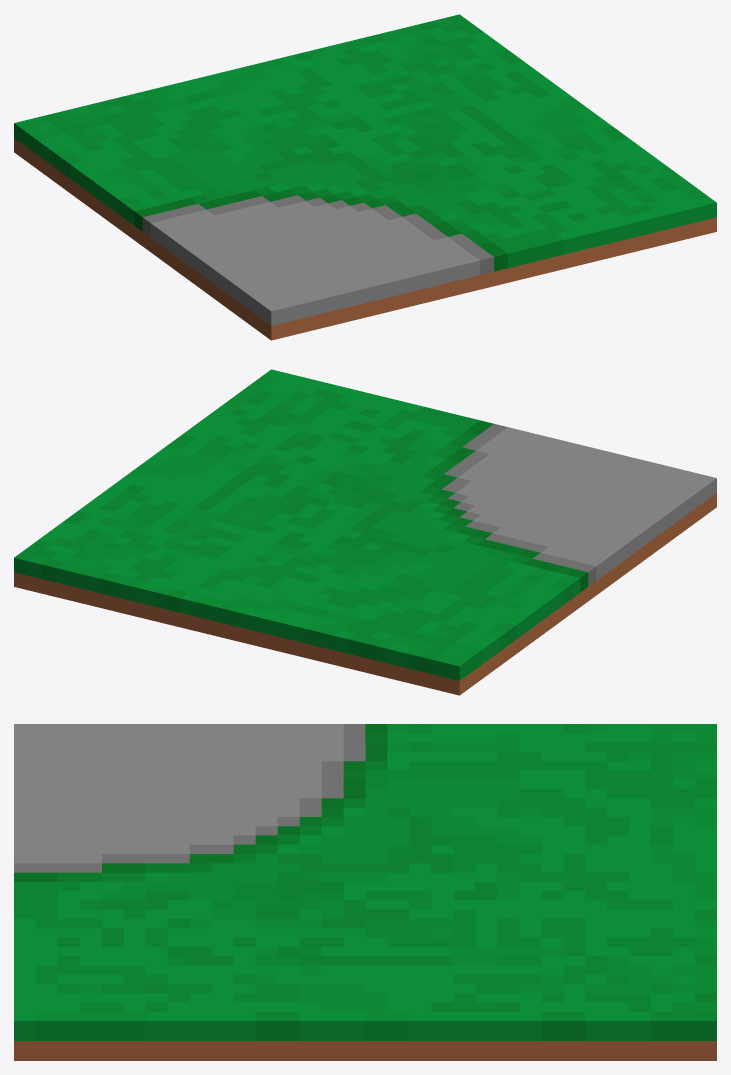
Rendered from forest-city-rounded-edge-inner-4.gltf.
3 renders of one model, top to bottom at view 1: azimuth 30°, elevation 25°; view 2: azimuth 150°, elevation 25°; view 3: azimuth 270°, elevation 25°, orthographic. The views are drawn at different scales.
Visible parts, largest first — view 1: forest-city-rounded-edge-inner-4; view 2: forest-city-rounded-edge-inner-4; view 3: forest-city-rounded-edge-inner-4.
Boxes of the visible parts, x1,y1,x2,y2 form: forest-city-rounded-edge-inner-4: (14,14,716,340); forest-city-rounded-edge-inner-4: (14,369,716,695); forest-city-rounded-edge-inner-4: (14,724,716,1060).
Size of the model in its own units: 3.2 by 0.2 by 3.2.
Materials: 1 (1 with a texture image).
